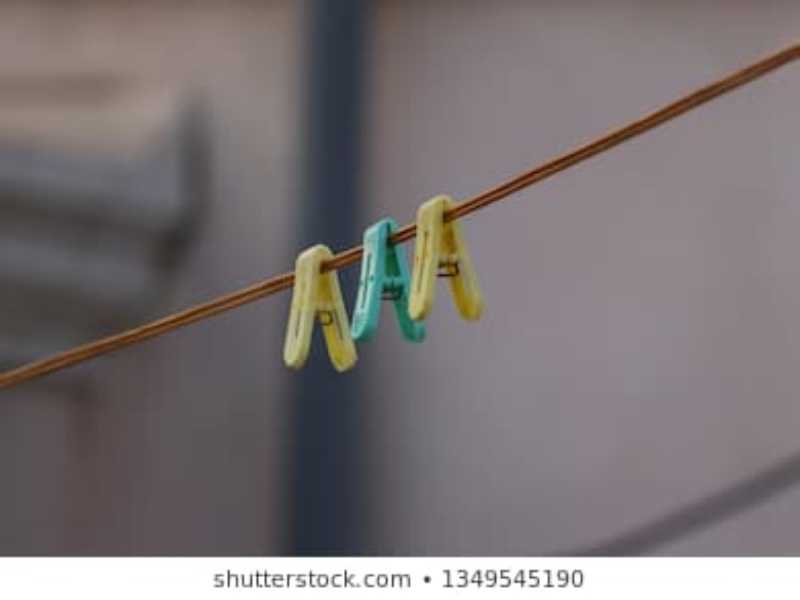plastic-peg: (407, 191, 486, 323), (280, 245, 359, 373), (352, 214, 426, 341)
